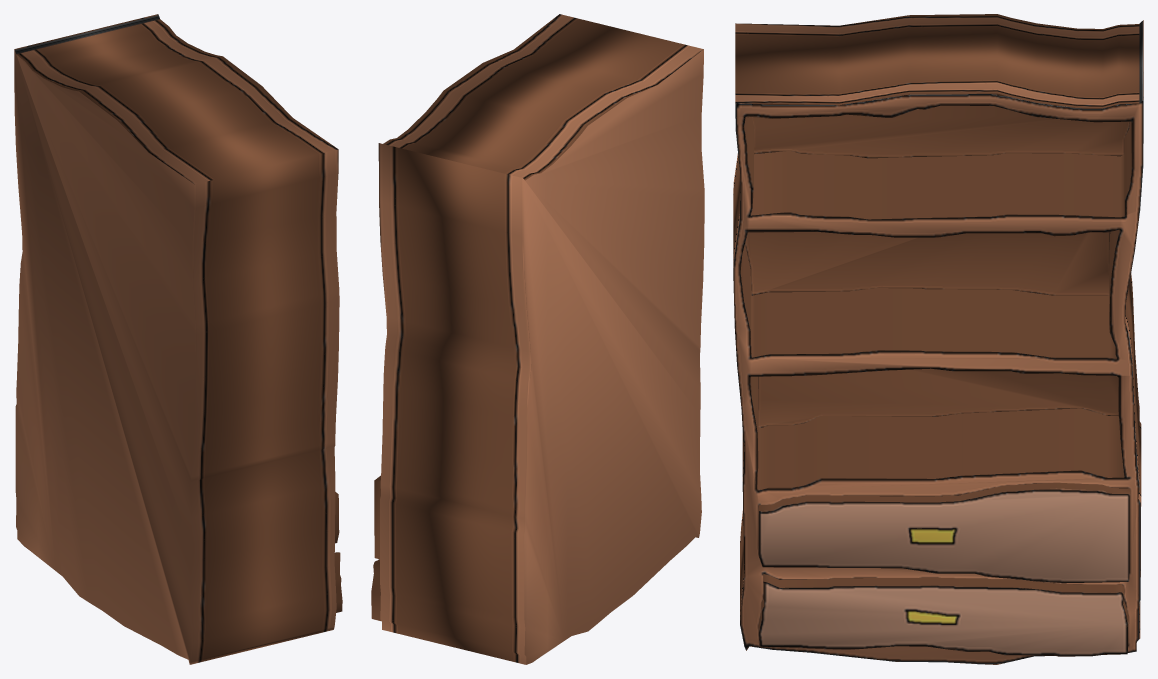
Rendered from SHELF_WOOD.fbx.
3 views of the same model, side by side, from view 1: azimuth 30°, elevation 25°; view 2: azimuth 150°, elevation 25°; view 3: azimuth 270°, elevation 25° (orthographic). The views are drawn at different scales.
Parts seen in each view (by area): view 1: Cube.001; view 2: Cube.001; view 3: Cube.001.
Part boxes in pixels (box(x1,y1,x2,y2)): Cube.001: box(14, 14, 342, 664); Cube.001: box(371, 14, 704, 664); Cube.001: box(733, 14, 1143, 664).
Bounding box in the file's own units: 64.65 × 197 × 128.
Materials: 1 (1 with a texture image).
